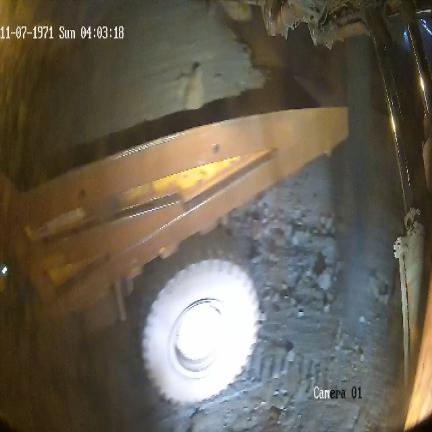pile: (43, 0, 282, 181), (218, 102, 406, 332)
